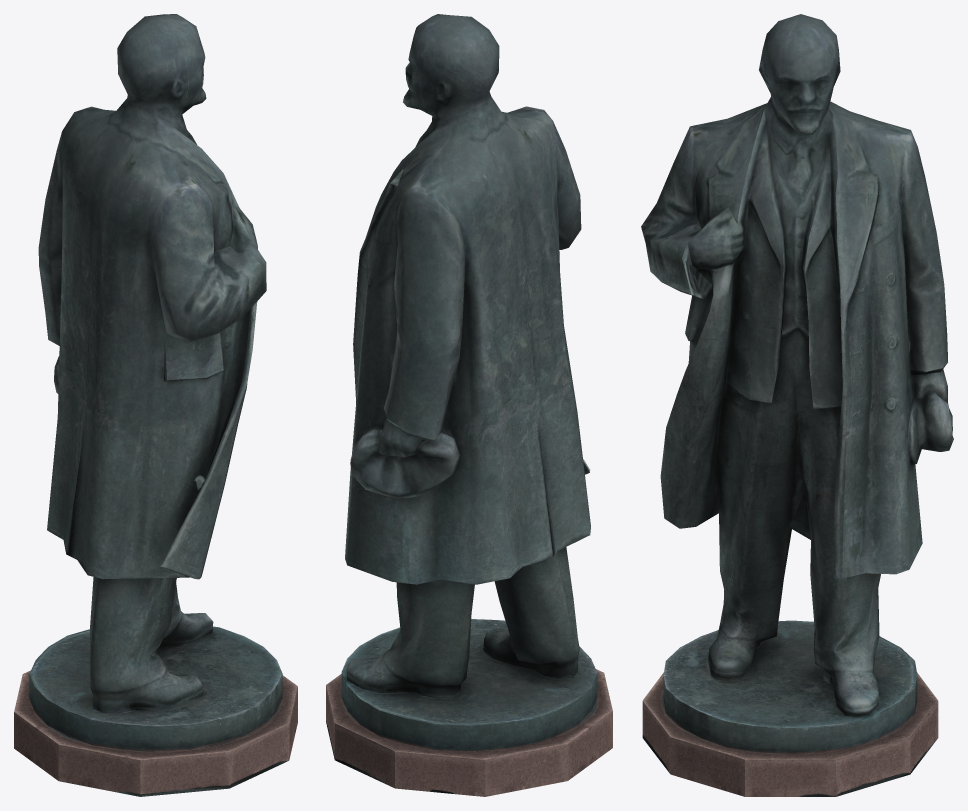
File: Lenin_Monument.glb
3 views of the same model, side by side, from view 1: azimuth 30°, elevation 25°; view 2: azimuth 150°, elevation 25°; view 3: azimuth 270°, elevation 25° (orthographic).
Parts seen in each view (by area): view 1: Plane__0, Cylinder__0; view 2: Plane__0, Cylinder__0; view 3: Plane__0, Cylinder__0.
Boxes of the visible parts, x1,y1,x2,y2 form: Plane__0: [38, 14, 266, 713]; Cylinder__0: [14, 626, 297, 796]; Plane__0: [345, 14, 590, 698]; Cylinder__0: [326, 619, 612, 796]; Plane__0: [641, 14, 953, 716]; Cylinder__0: [642, 620, 938, 796].
Size of the model in its own units: 1.41 by 4.01 by 1.57.
1 material, 1 textured.
